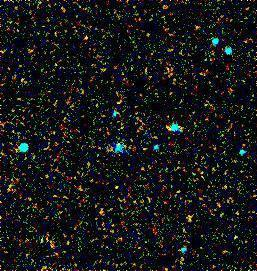star: (101, 172, 131, 202)
